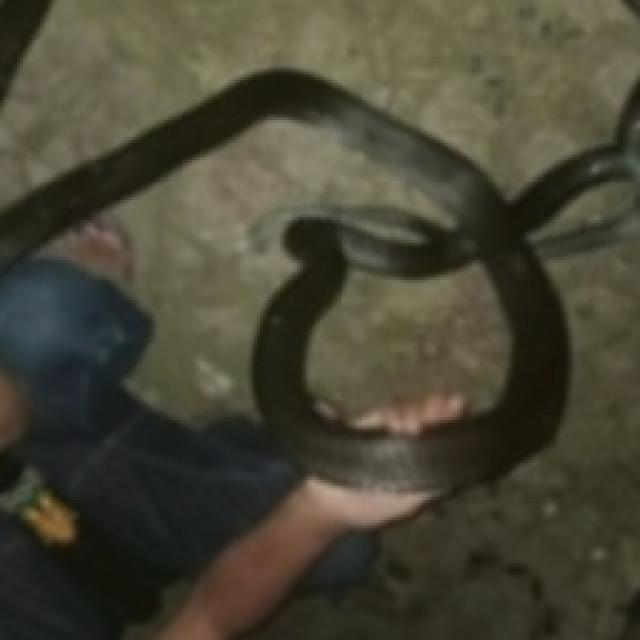king cobra: (0, 0, 637, 206), (60, 120, 451, 420), (309, 266, 506, 414), (546, 240, 637, 497), (340, 426, 466, 483)
